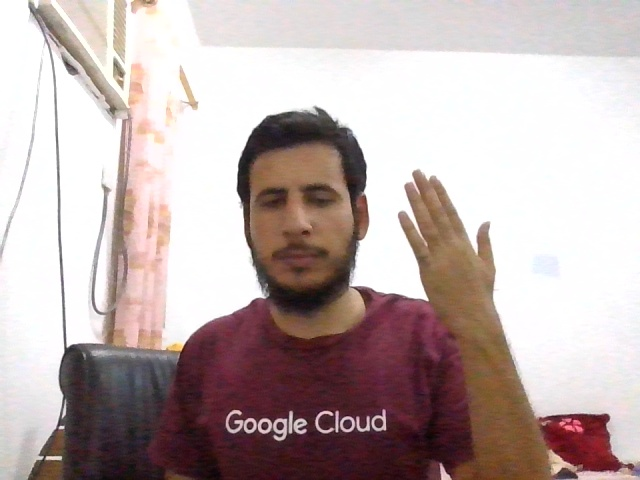Five: (398, 170, 496, 316)
